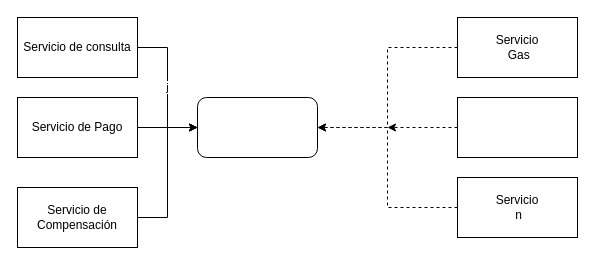
This 595x265 diagram has some shape labels left out. Each missing label, with the centre of its shape:
Esquemas, Contratos y Políticas (JSON Schema): the point at 257,127
Servicio Agua: the point at 517,127
